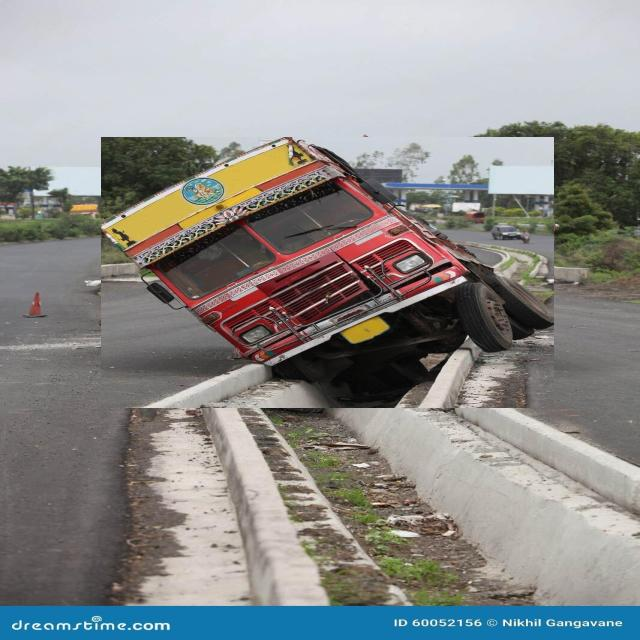accident: (101, 137, 554, 408)
